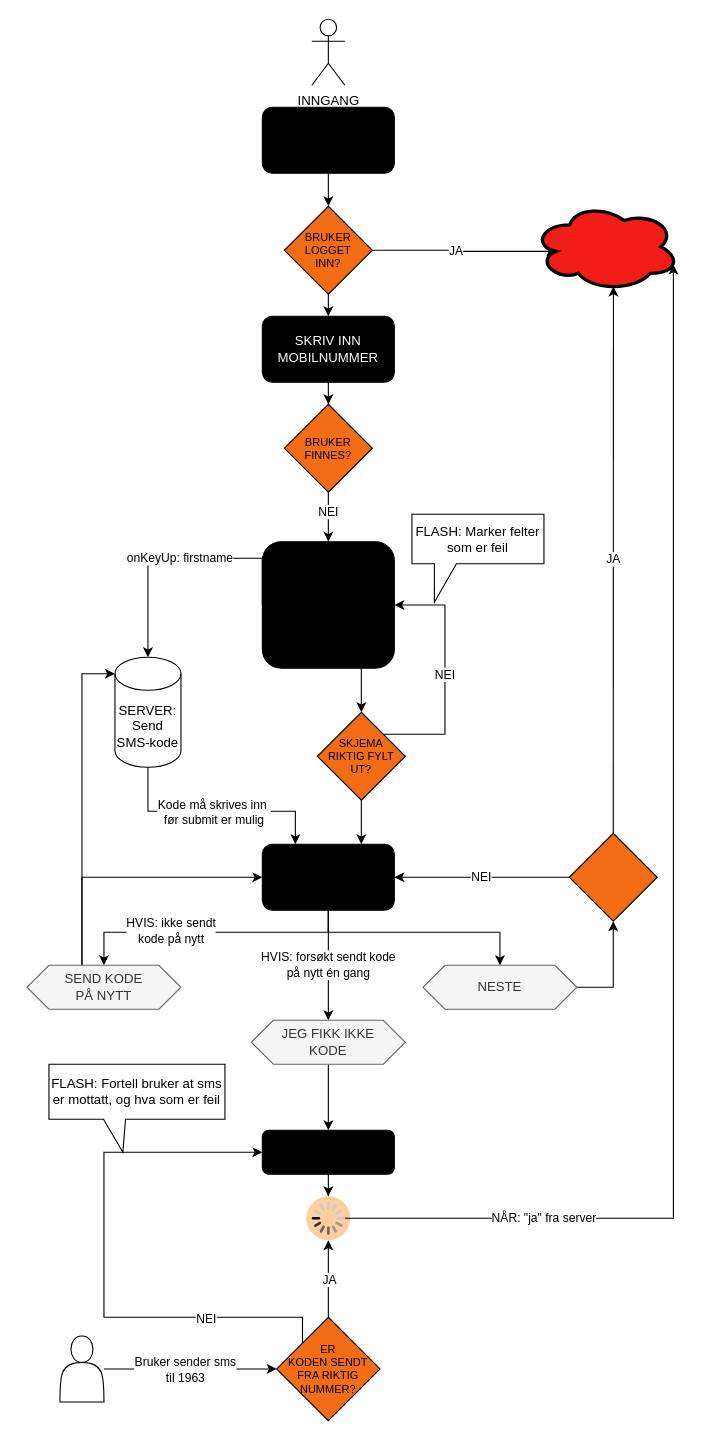
This 702x1440 diagram has some shape labels left out. The centre of each missing label's shape, as x and y in pixels:
"BRUKER SENDES TIL RIKTIG STED" belongs at pixel 605 246.
"ID PORTAL" belongs at pixel 327 139.
"REGISTRER BRUKER - fornavn - etternavn - alder - e-post" belongs at pixel 327 604.
"RIKTIG KODE?" belongs at pixel 612 876.
"SEND DENNE KODEN TIL OSS" belongs at pixel 327 1151.
"SKRIV INN SMS-KODE" belongs at pixel 327 876.
